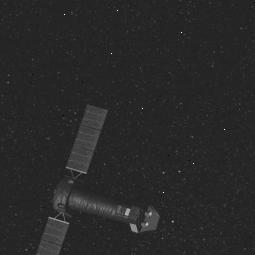xmm_newton: (40, 107, 159, 255)
